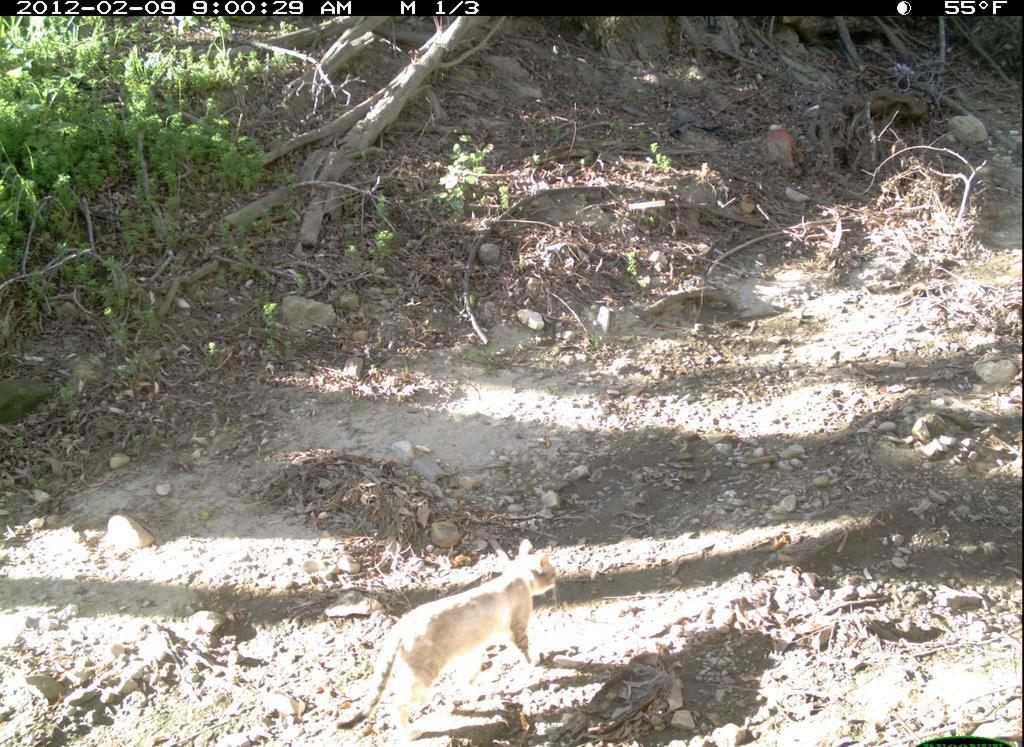cat: (331, 536, 569, 744)
